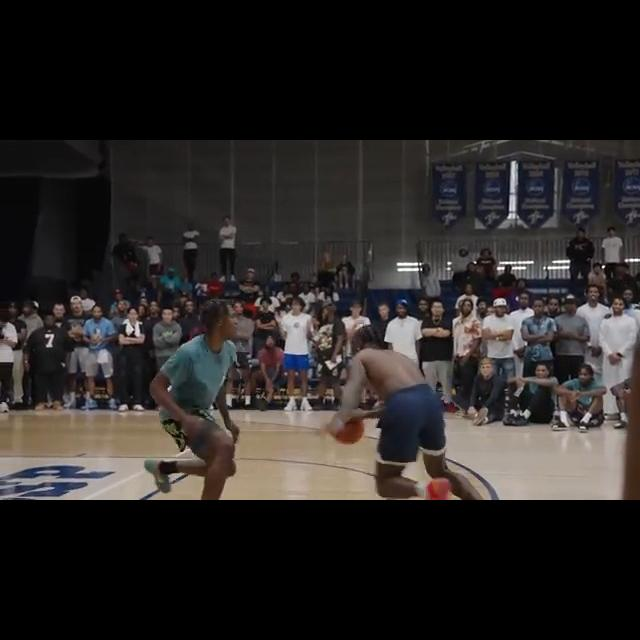basketball: (332, 415, 363, 444)
